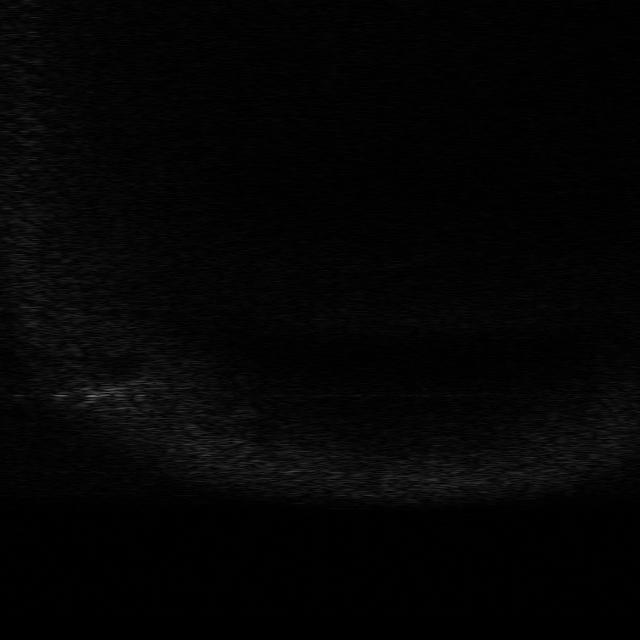plane: (70, 377, 148, 410)
